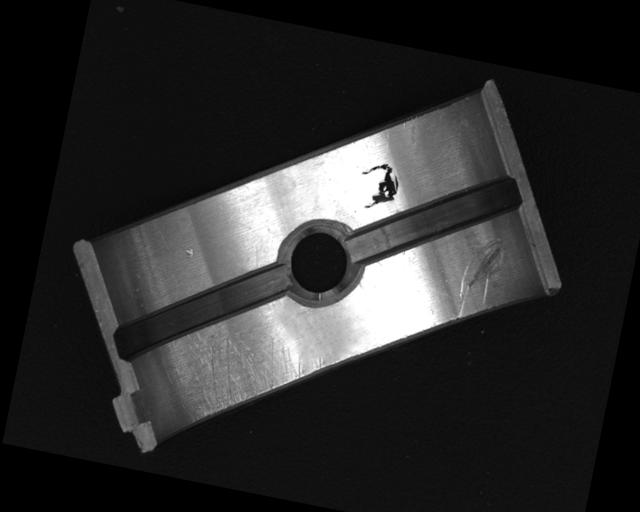blot: (354, 158, 403, 215)
bruise: (182, 246, 194, 259)
gap: (108, 237, 294, 389), (348, 150, 526, 292)
hole: (270, 213, 366, 308)
nick: (453, 230, 510, 326)
scratch: (152, 312, 328, 447)
